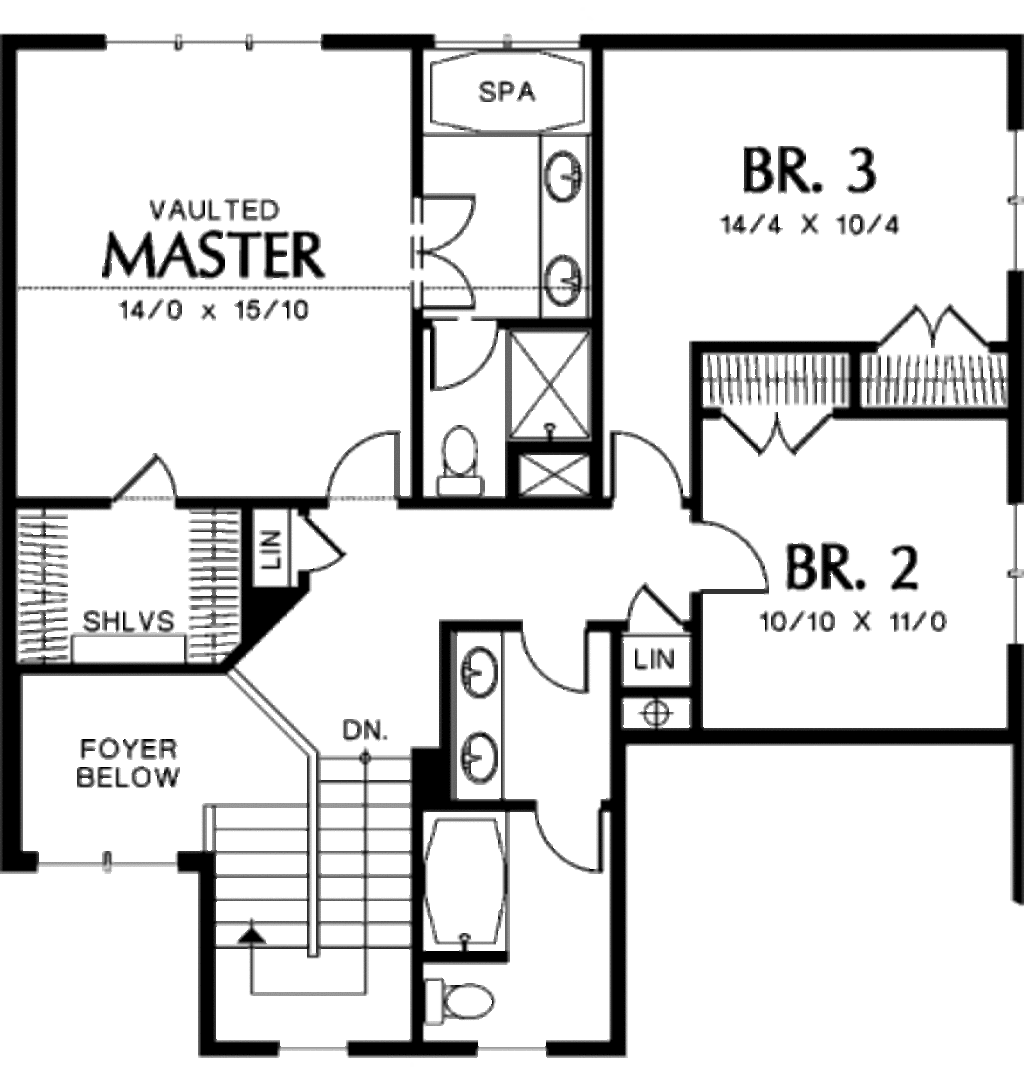door: (407, 189, 491, 315), (507, 610, 597, 699), (687, 509, 778, 597), (872, 294, 989, 358), (604, 419, 684, 510), (320, 420, 405, 504), (527, 794, 612, 878), (420, 312, 499, 396), (722, 402, 828, 456), (100, 442, 184, 509), (281, 507, 353, 579), (610, 581, 692, 635)
large_sink: (423, 965, 496, 1030), (428, 419, 484, 494)
small_sink: (451, 629, 512, 802), (540, 137, 581, 312)
stairs: (191, 722, 412, 1007)
tub: (409, 37, 597, 137), (417, 807, 517, 956)
window: (102, 27, 332, 61), (1005, 130, 1024, 275), (1010, 501, 1017, 645)
